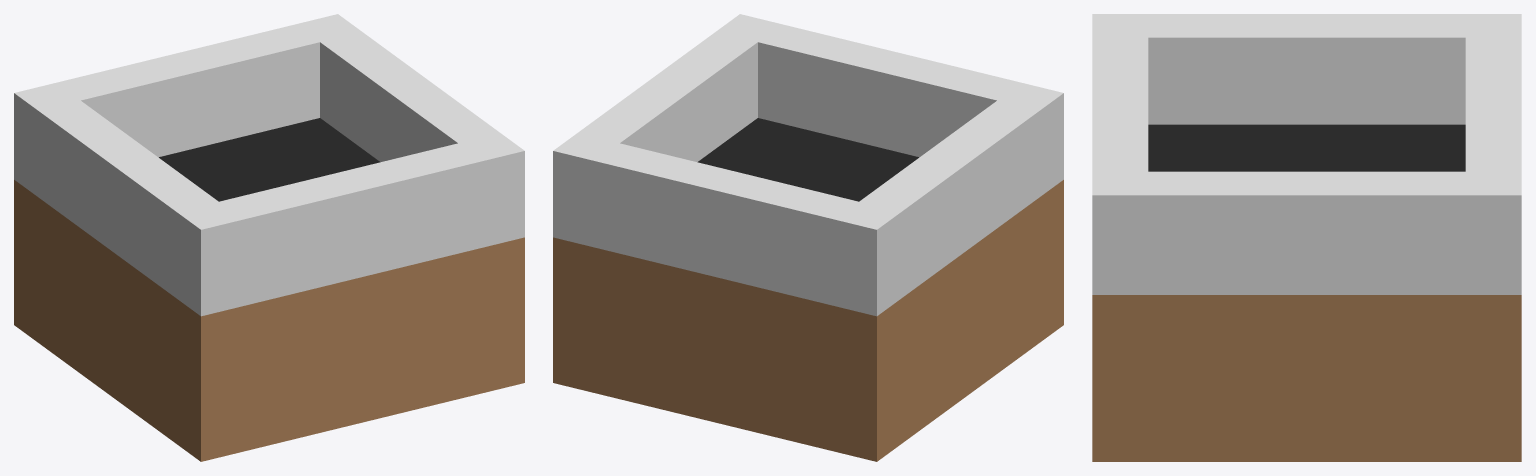
3 views of the same model, side by side, from view 1: azimuth 30°, elevation 25°; view 2: azimuth 150°, elevation 25°; view 3: azimuth 270°, elevation 25° (orthographic). The views are drawn at different scales.
Parts seen in each view (by area): view 1: Box_3; view 2: Box_3; view 3: Box_3.
Part boxes in pixels (bbox=[...]): Box_3: bbox=[14, 14, 524, 461]; Box_3: bbox=[553, 14, 1063, 461]; Box_3: bbox=[1092, 14, 1521, 461].
Bounding box in the file's own units: 88.16 × 60.37 × 88.16.
